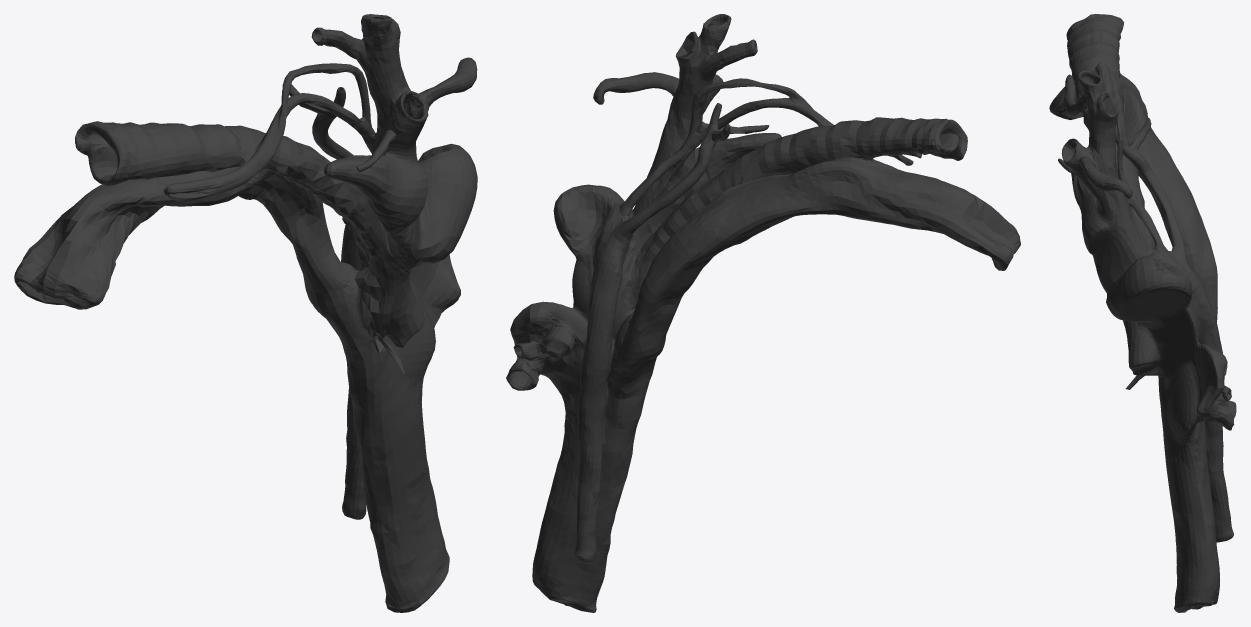
File: mesh_canine_hemithorax_pipes.glb
The picture shows the model from 3 angles, left to right: view 1: azimuth 30°, elevation 25°; view 2: azimuth 150°, elevation 25°; view 3: azimuth 270°, elevation 25°; orthographic projection. The views are drawn at different scales.
Visible parts, largest first — view 1: mesh_canine_hemithorax_pipes; view 2: mesh_canine_hemithorax_pipes; view 3: mesh_canine_hemithorax_pipes.
Boxes of the visible parts, x1,y1,x2,y2 form: mesh_canine_hemithorax_pipes: [14, 14, 477, 612]; mesh_canine_hemithorax_pipes: [506, 14, 1020, 612]; mesh_canine_hemithorax_pipes: [1049, 14, 1236, 612].
Size of the model in its own units: 1.5 by 1.87 by 0.6273.
1 material, 1 textured.
